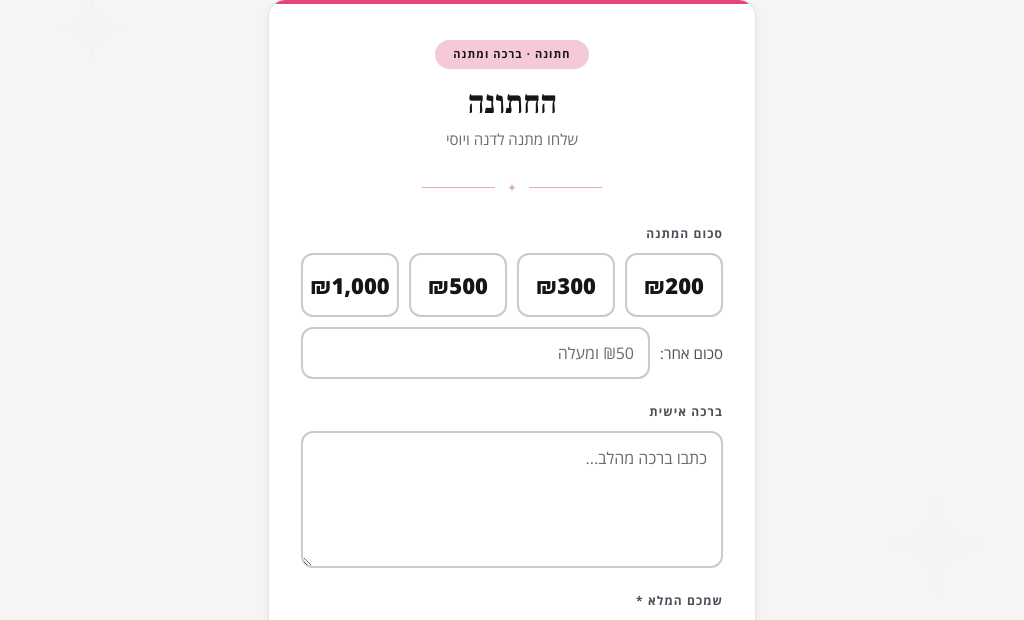
Scenario: gift page analytics › sends nothing when the server refused it
Type "360" into the number field labelled "סכום המתנה" at point(476, 353), box left=301, top=327, right=650, bottom=379
(page scrolled)
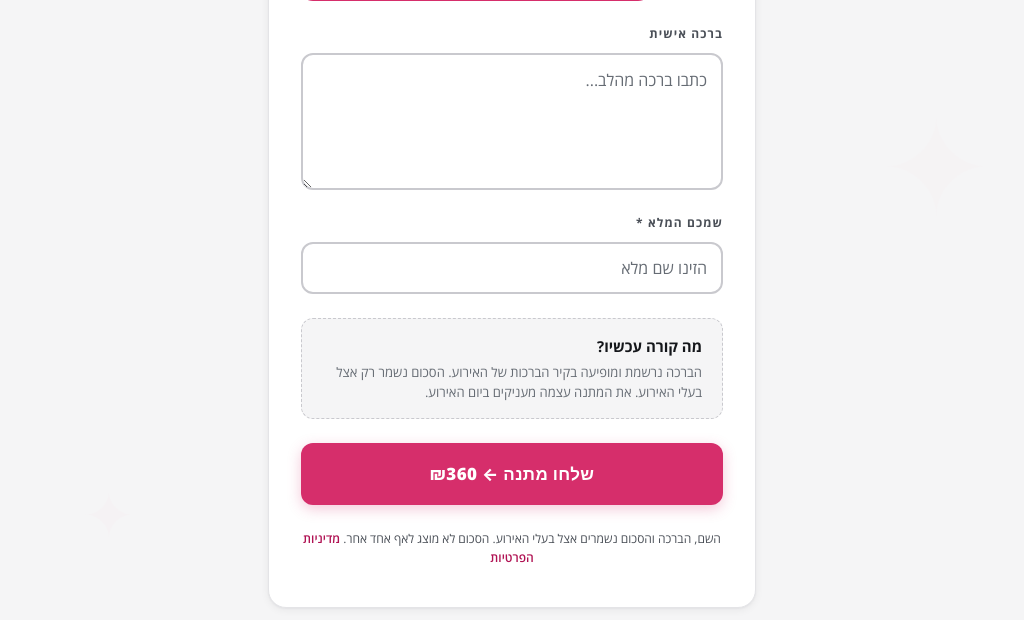
Type "משפחת כהן" into the field labelled "שמכם המלא *" at point(512, 268), box left=301, top=242, right=723, bottom=294
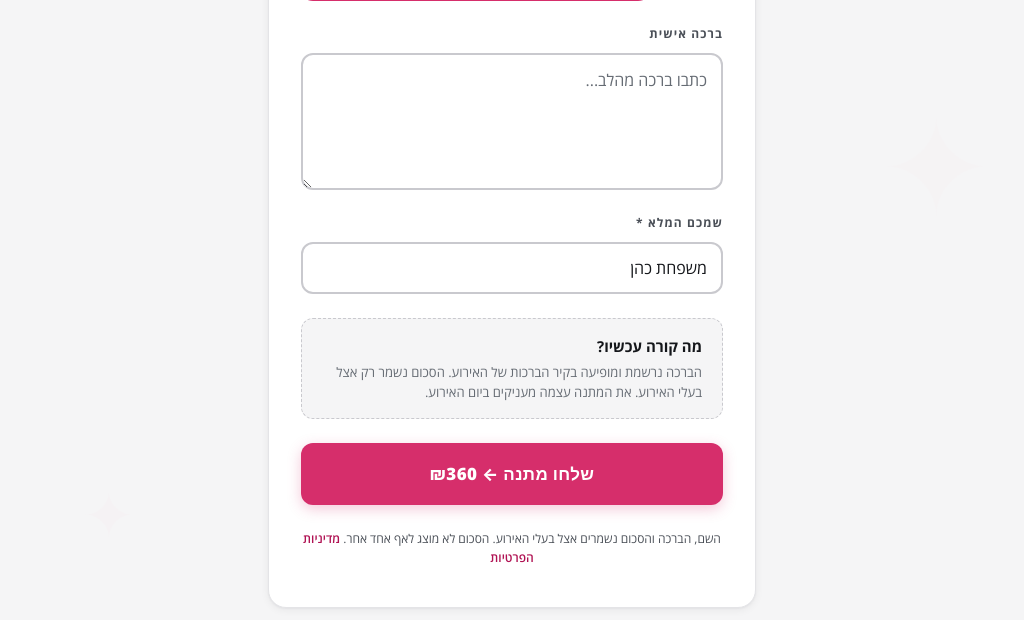
Type "מזל טוב!" into the text box labelled "ברכה אישית" at point(512, 121), box left=301, top=53, right=723, bottom=190
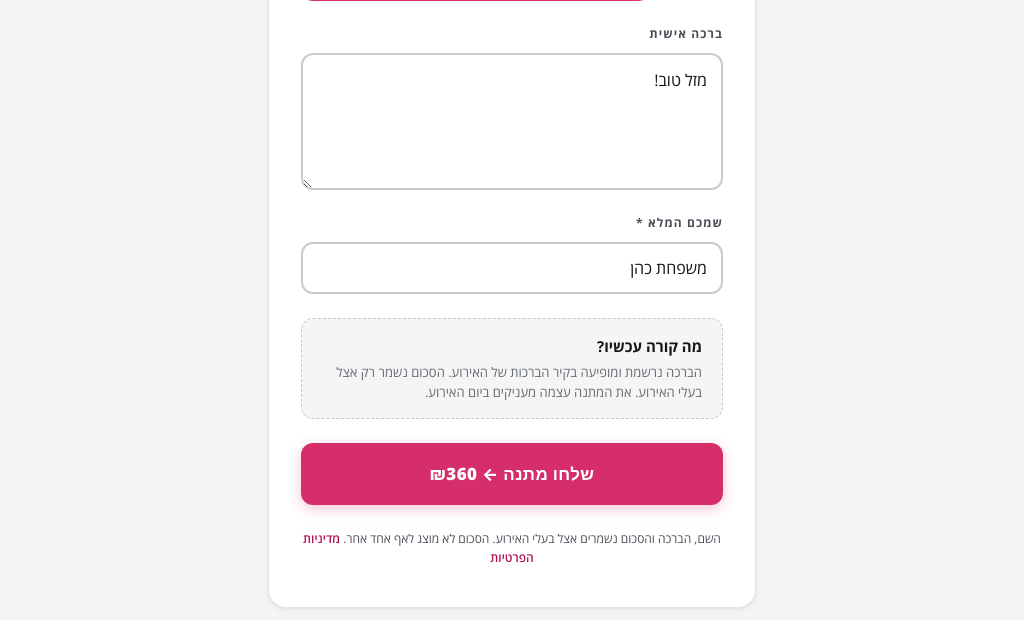
Click the button "שלחו מתנה ← ₪360" at point(512, 474), box left=301, top=443, right=723, bottom=504
(page scrolled)
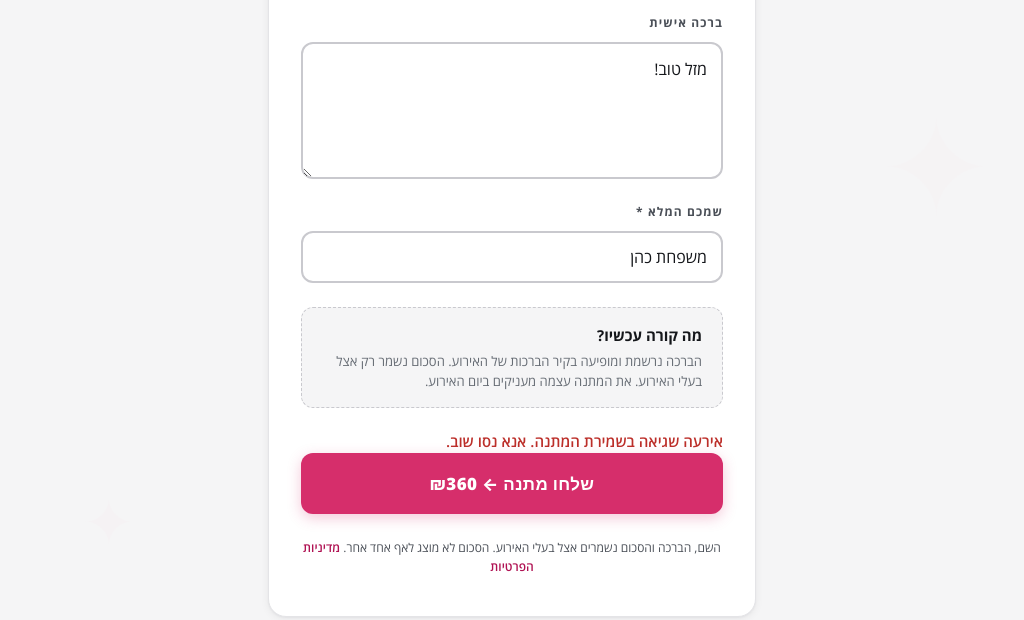
Check: the text "אירעה שגיאה בשמירת המתנה. אנא נסו שוב." is shown, box left=446, top=431, right=723, bottom=451
